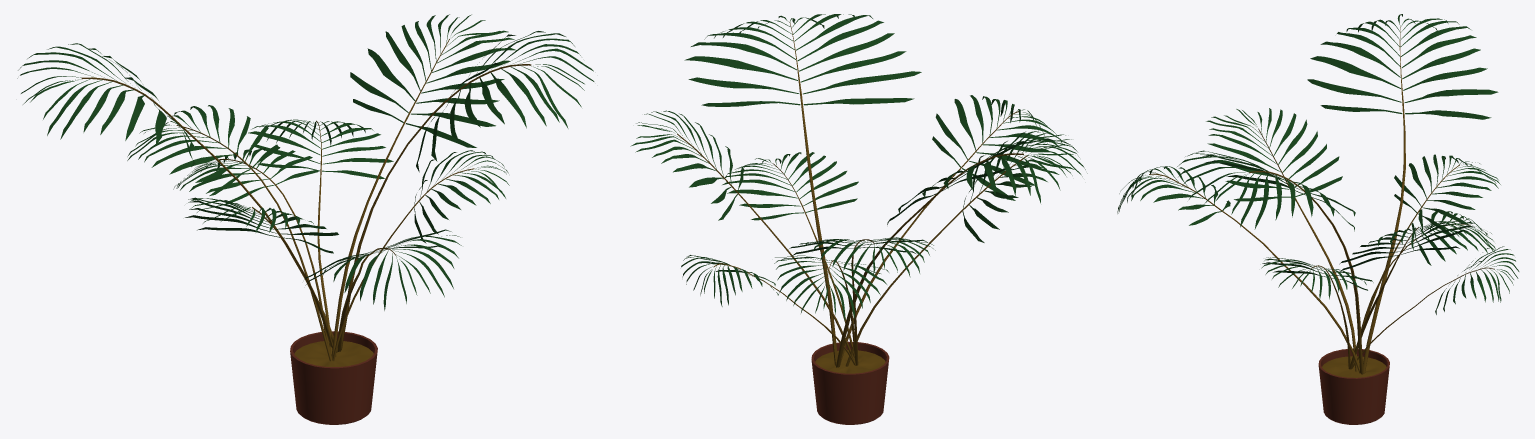
The model's file is Yaja_lv03.fbx.
3 views of the same model, side by side, from view 1: azimuth 30°, elevation 25°; view 2: azimuth 150°, elevation 25°; view 3: azimuth 270°, elevation 25° (orthographic). The views are drawn at different scales.
Parts seen in each view (by area): view 1: Mesh5; view 2: Mesh5; view 3: Mesh5.
Part boxes in pixels (left/top/right/bottom): Mesh5: left=17, top=14, right=594, bottom=424; Mesh5: left=630, top=14, right=1087, bottom=424; Mesh5: left=1117, top=14, right=1519, bottom=424.
Size of the model in its own units: 154 by 112 by 136.
